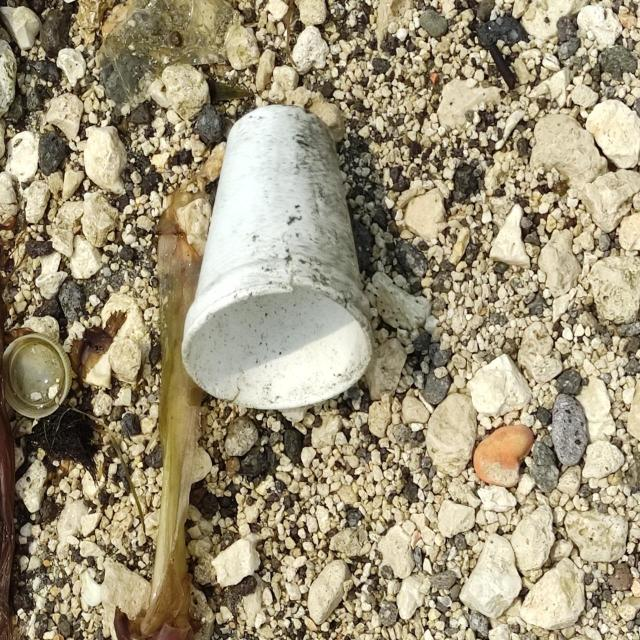plastic_waste: (1, 334, 74, 420)
styrofoam_waste: (180, 104, 380, 413)
